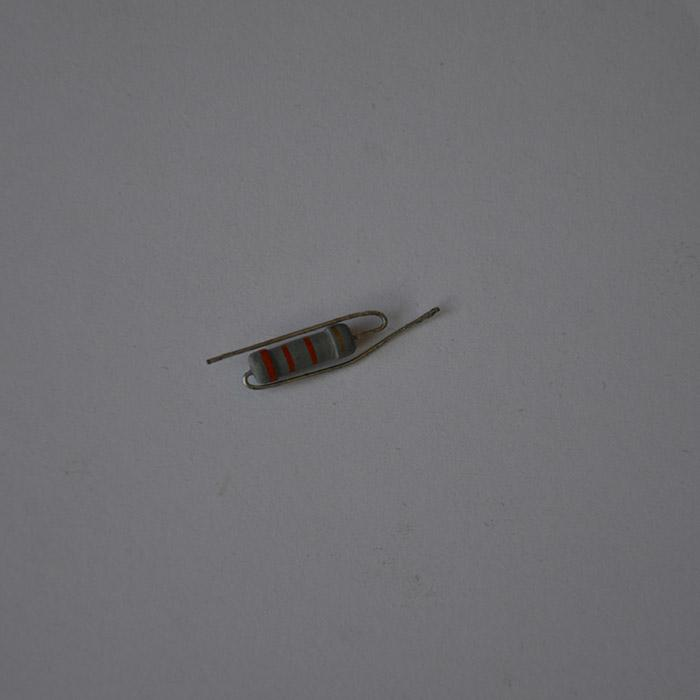resistor: (248, 322, 355, 384)
